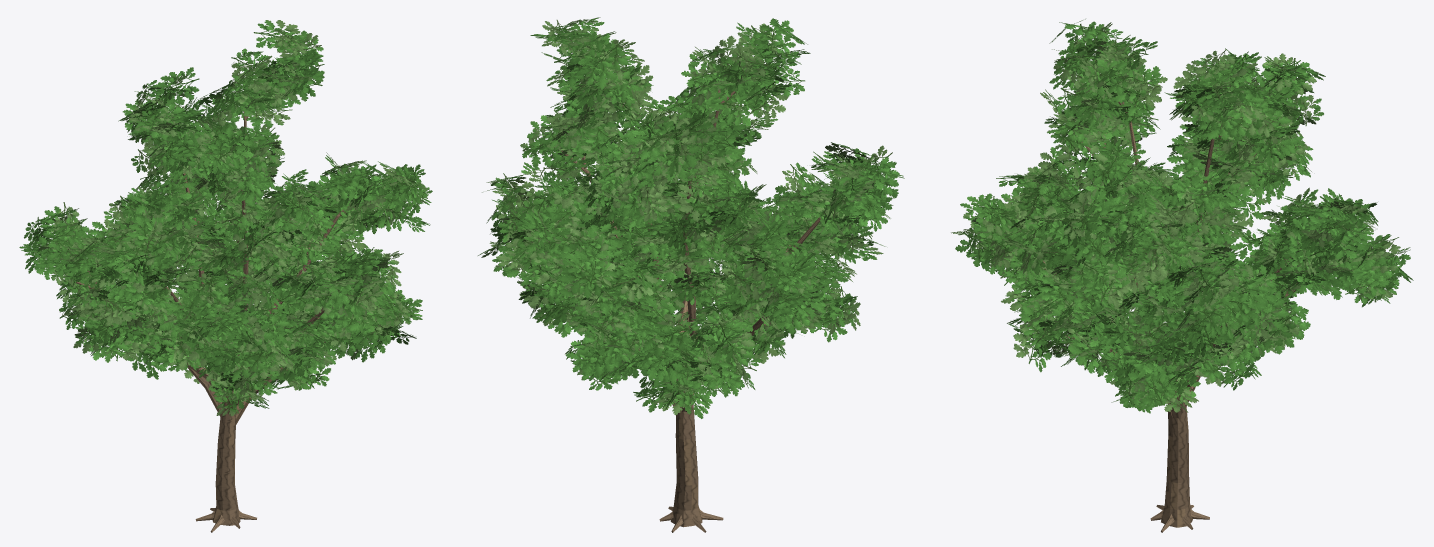
File: oak_mature_atlas_8000.glb
3 renders of one model, left to right at view 1: azimuth 30°, elevation 25°; view 2: azimuth 150°, elevation 25°; view 3: azimuth 270°, elevation 25°, orthographic. The views are drawn at different scales.
Parts seen in each view (by area): view 1: Oak_mature_atlas_8000; view 2: Oak_mature_atlas_8000; view 3: Oak_mature_atlas_8000.
Part boxes in pixels (x1,y1,x2,y2): Oak_mature_atlas_8000: [19, 20, 432, 532]; Oak_mature_atlas_8000: [478, 17, 904, 532]; Oak_mature_atlas_8000: [951, 19, 1413, 532].
Bounding box in the file's own units: 14.52 × 18.02 × 15.23.
Materials: 4 (4 with a texture image).
